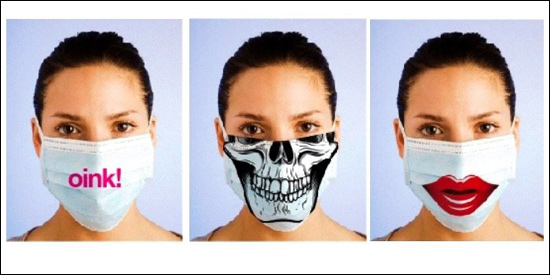face_mask: (222, 73, 332, 229), (407, 73, 511, 233), (43, 78, 149, 234)
